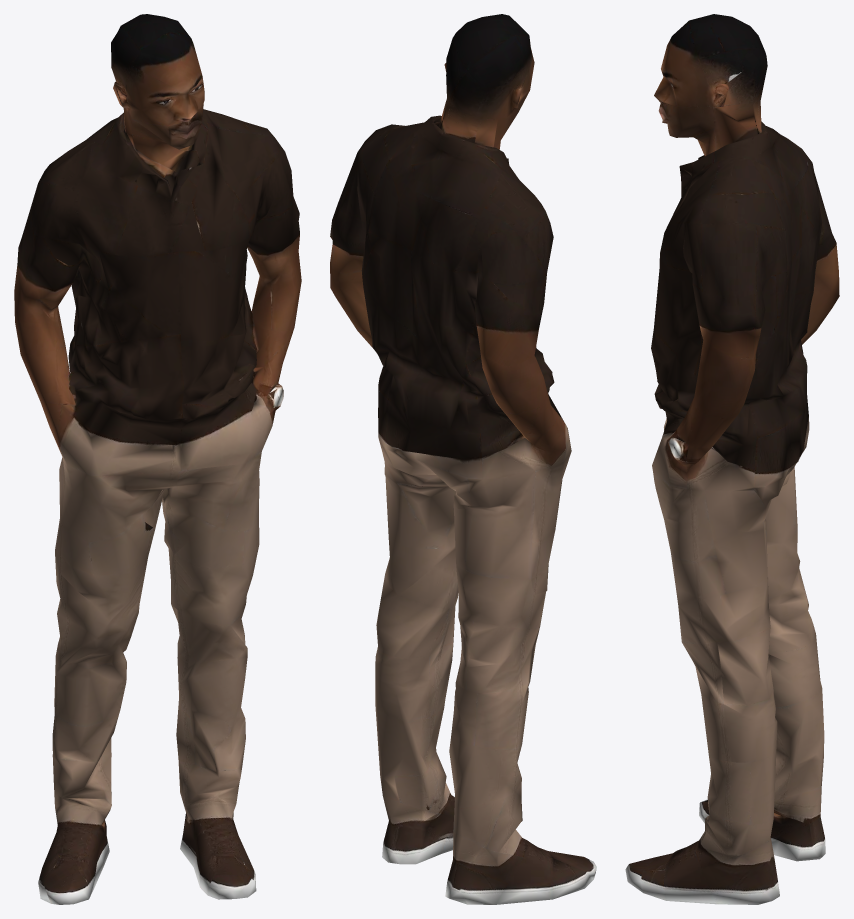
Rendered from perso2.glb.
The picture shows the model from 3 angles, left to right: view 1: azimuth 30°, elevation 25°; view 2: azimuth 150°, elevation 25°; view 3: azimuth 270°, elevation 25°; orthographic projection. The views are drawn at different scales.
Size of the model in its own units: 0.5978 by 1.9 by 0.4349.
Materials: 1 (1 with a texture image).
